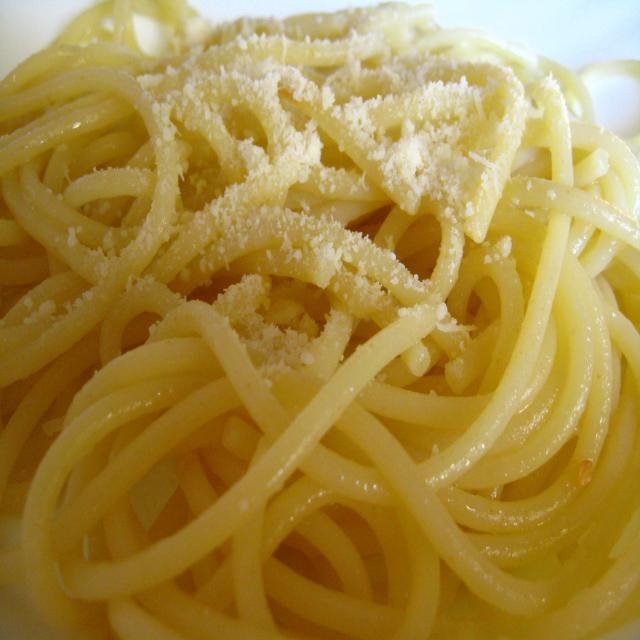Oil pasta: (8, 10, 640, 640)
